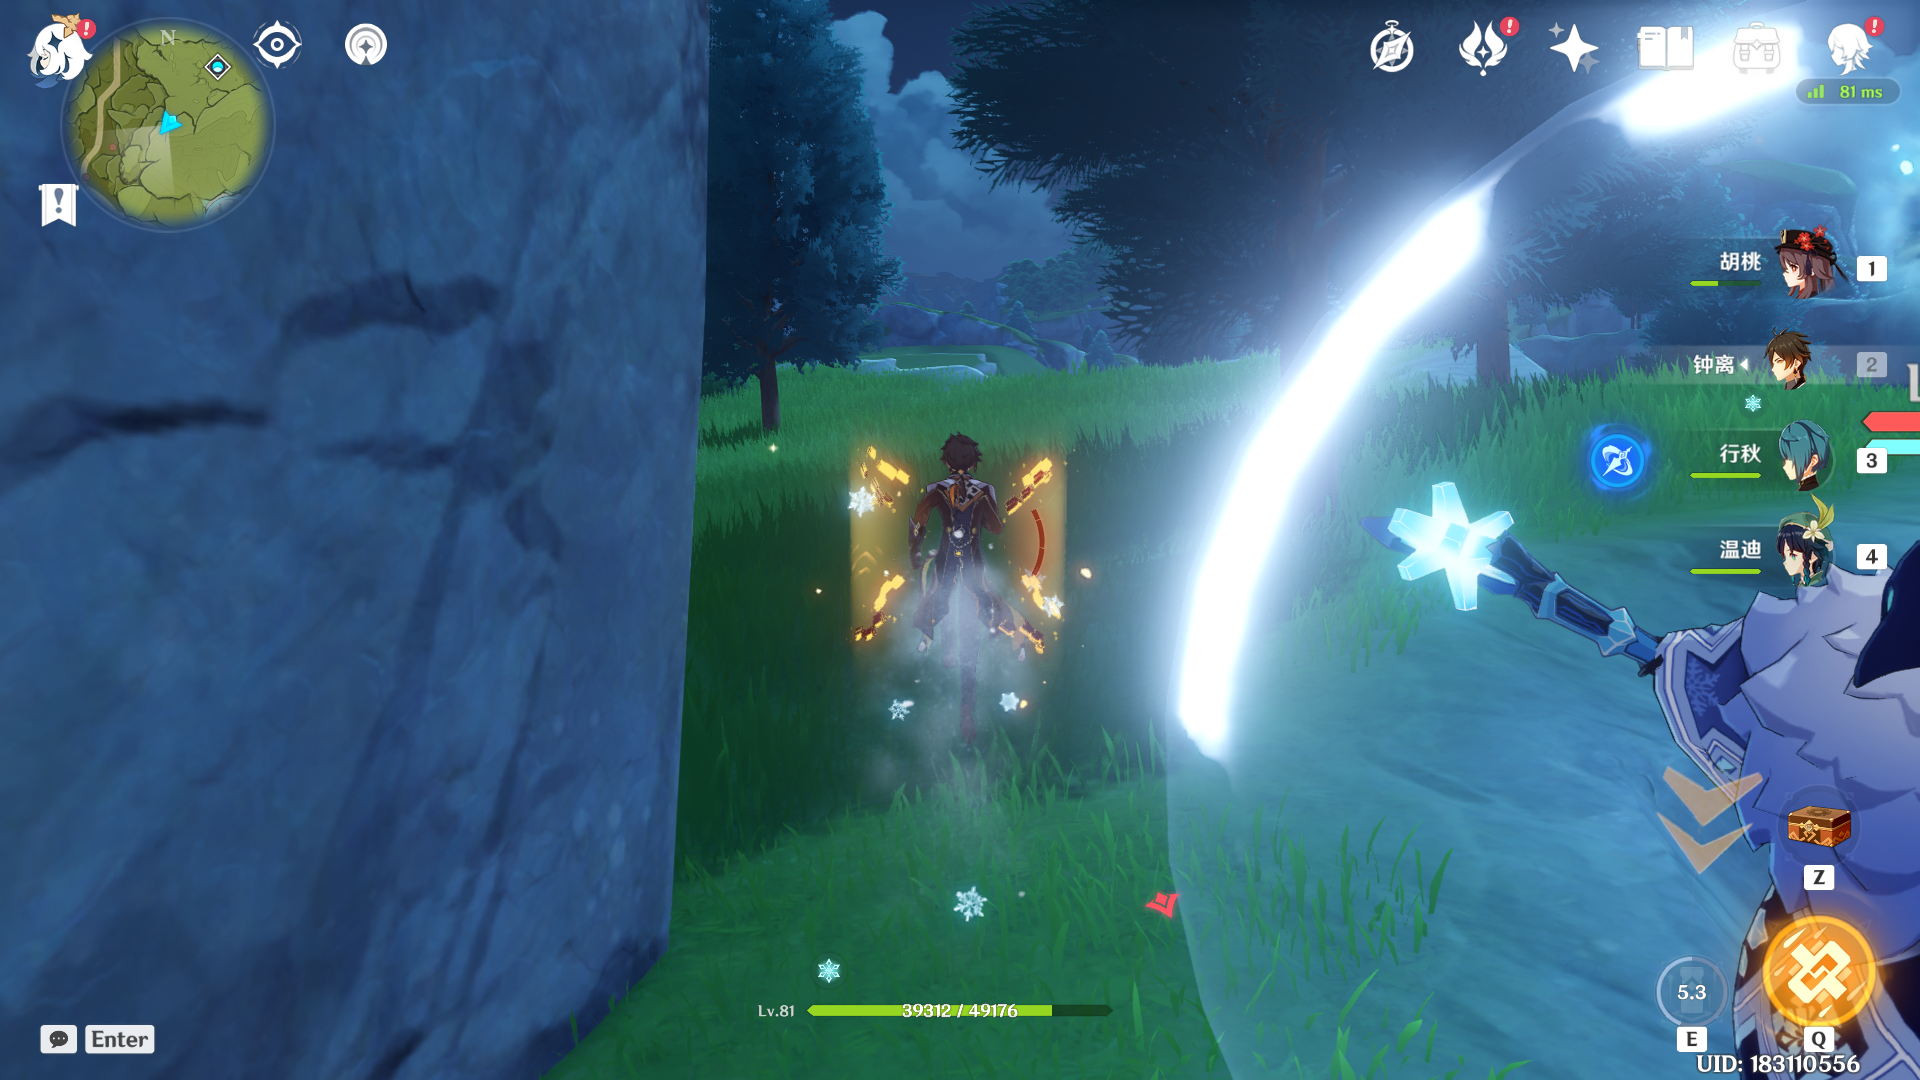caster: (1331, 338, 1920, 1080)
character: (855, 405, 1075, 719)
